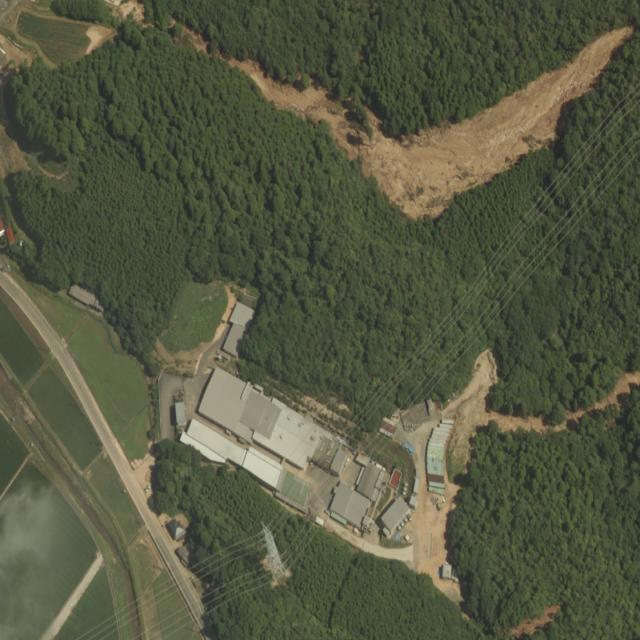landslide: (231, 25, 632, 218), (445, 351, 640, 483), (512, 608, 562, 639)
